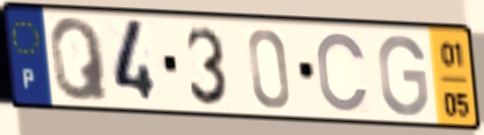0: (245, 26, 292, 111)
3: (183, 24, 229, 108)
4: (109, 16, 164, 109)
C: (314, 29, 372, 115)
G: (375, 32, 431, 119)
Q: (47, 15, 112, 104)
